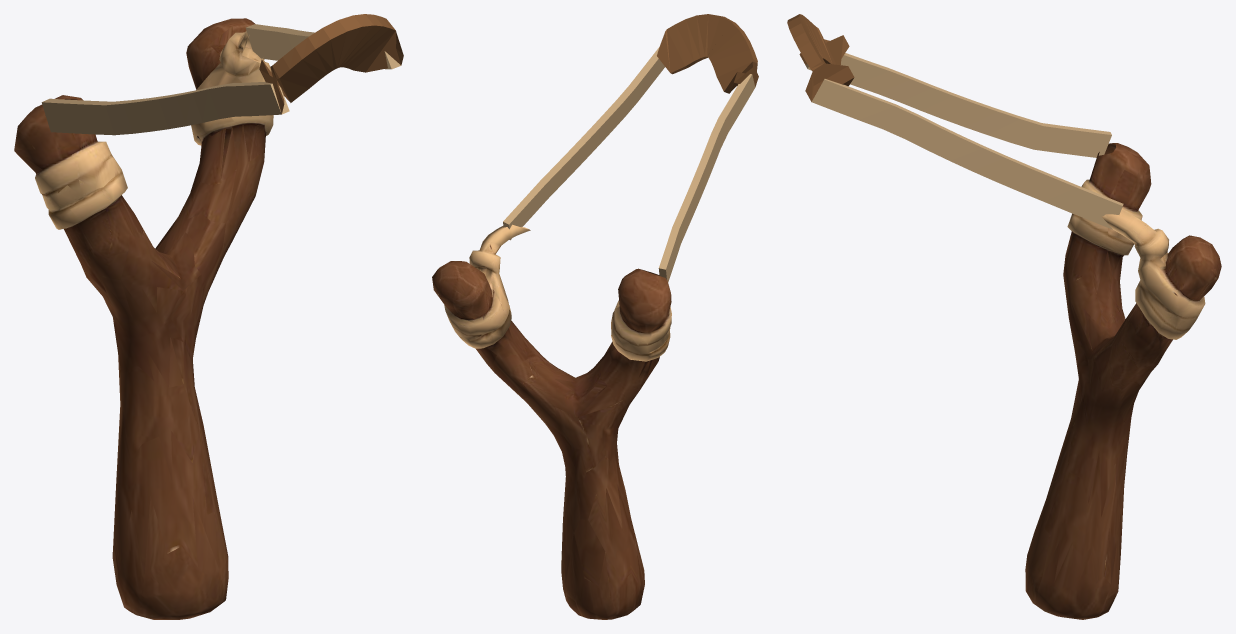
The model's file is sling.glb.
3 renders of one model, left to right at view 1: azimuth 30°, elevation 25°; view 2: azimuth 150°, elevation 25°; view 3: azimuth 270°, elevation 25°, orthographic. The views are drawn at different scales.
Parts seen in each view (by area): view 1: Model; view 2: Model; view 3: Model.
Boxes of the visible parts, bbox=[...] form: Model: bbox=[14, 14, 403, 619]; Model: bbox=[432, 14, 758, 619]; Model: bbox=[787, 14, 1221, 619].
Size of the model in its own units: 0.1946 by 0.4608 by 0.3056.
Materials: 3 (1 with a texture image).
